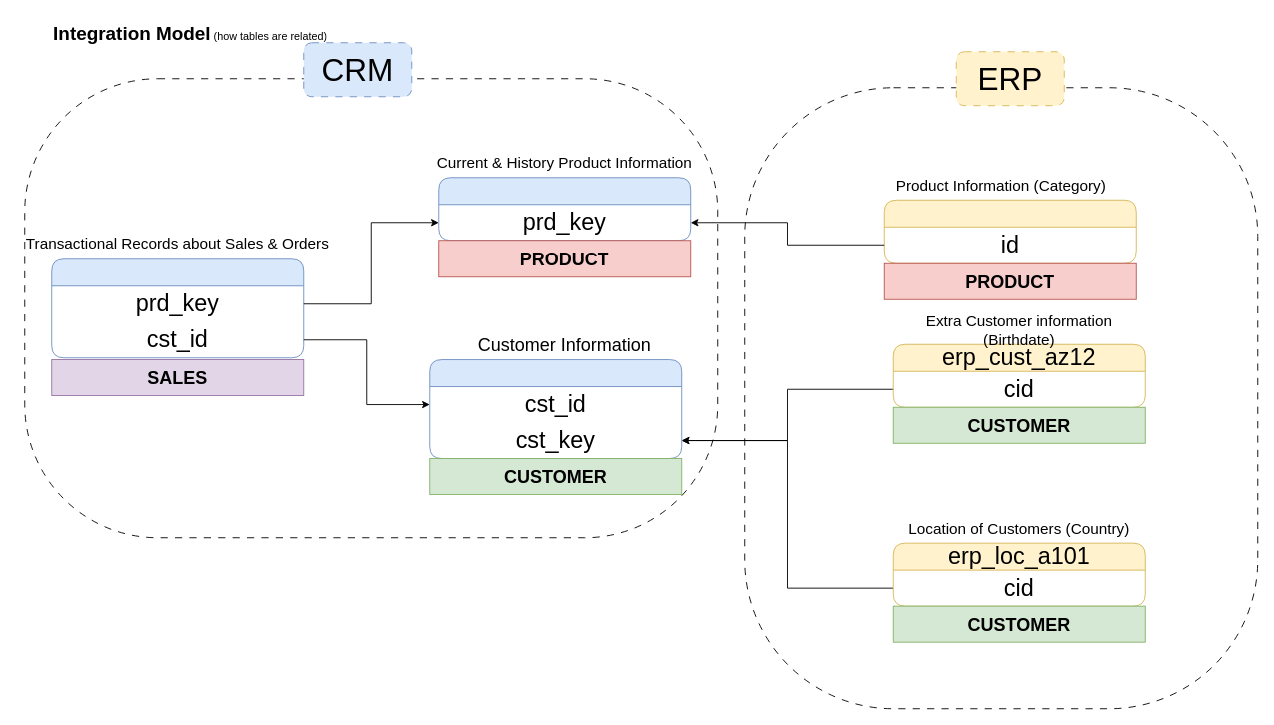
Some shapes in this 1274 by 725 pixel diagram are drawn without their labels. The box of each missing label's shape, as (x1, y1, x2, y2) in pixels:
crm_cust_info: (429, 359, 682, 459)
crm_prd_info: (438, 177, 691, 241)
crm_sales_details: (51, 258, 304, 358)
erp_px_cat_g1v2: (883, 199, 1136, 263)
